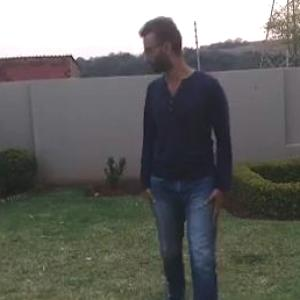follow: (130, 6, 236, 299)
